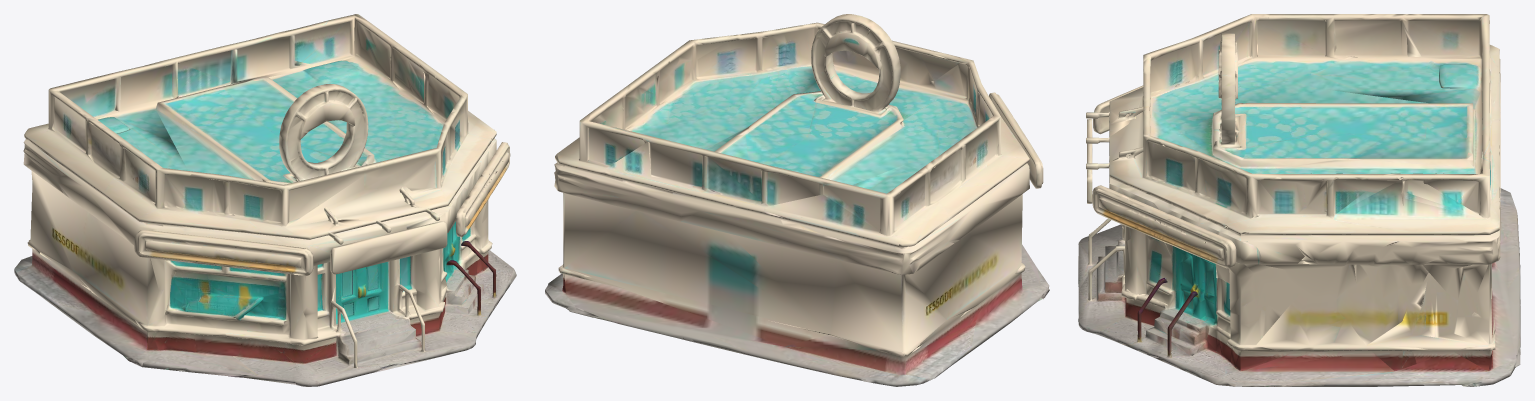
Rendered from language_academy.glb.
3 renders of one model, left to right at view 1: azimuth 30°, elevation 25°; view 2: azimuth 150°, elevation 25°; view 3: azimuth 270°, elevation 25°, orthographic. The views are drawn at different scales.
Parts seen in each view (by area): view 1: Mesh_0; view 2: Mesh_0; view 3: Mesh_0.
Part boxes in pixels (x1=…): Mesh_0: x1=14, y1=14, x2=516, y2=386; Mesh_0: x1=545, y1=14, x2=1049, y2=386; Mesh_0: x1=1078, y1=14, x2=1520, y2=386.
Bounding box in the file's own units: 10.42 × 6 × 9.7.
1 material, 1 textured.
